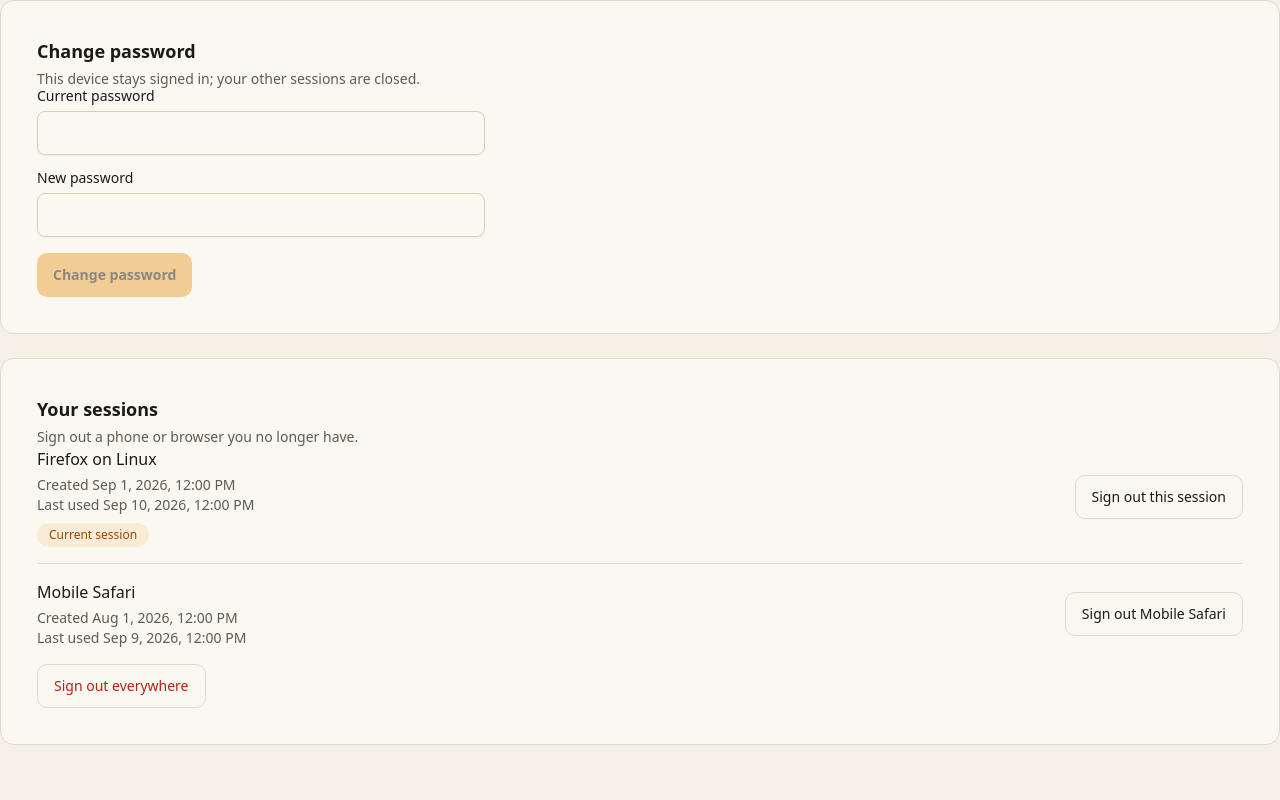
Test: AccountSection › shows recognizable sessions and revokes another device
expect the text "Firefox on Linux" is shown: met, box [37,448,157,470]
expect the text "Current session" is shown: met, box [37,523,149,547]
Click the button "Sign out Mobile Safari".
click(1154, 614)  # box [1065,592,1243,636]
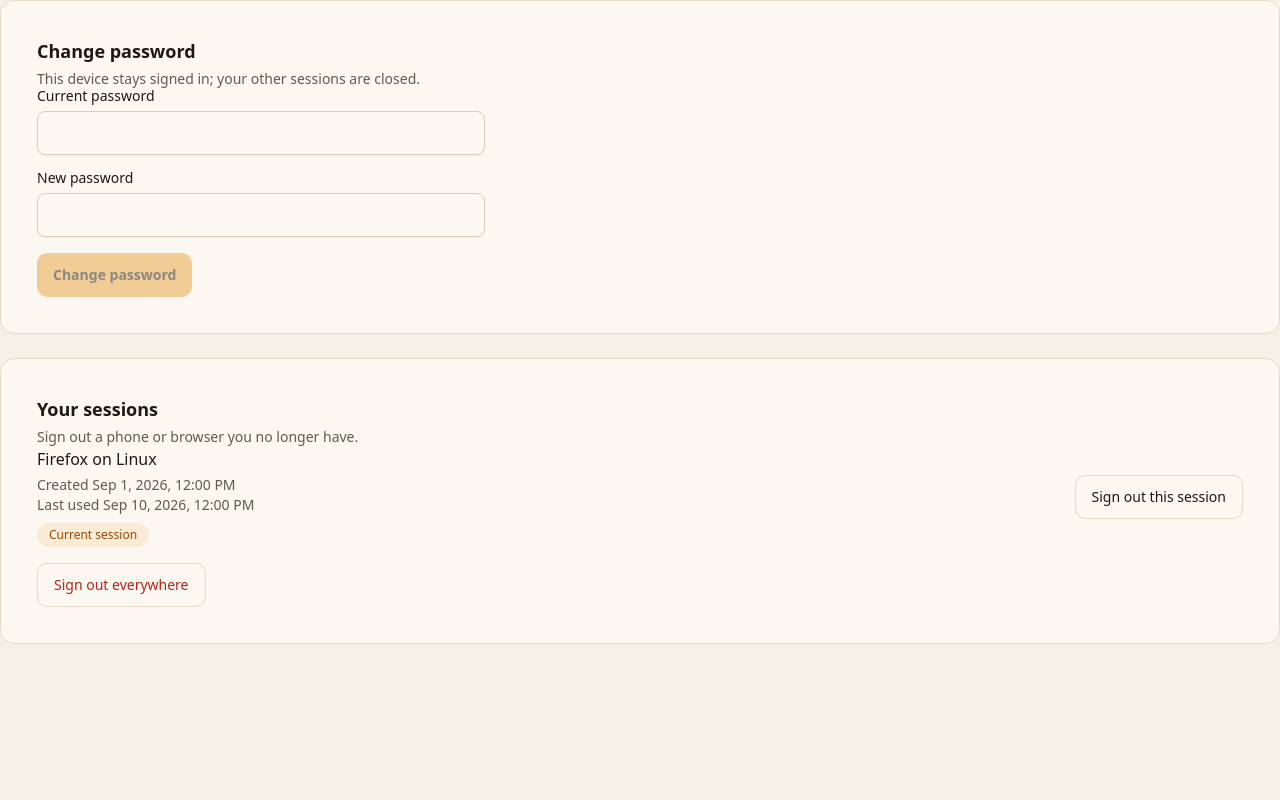
expect the text "Mobile Safari" is gone: met
